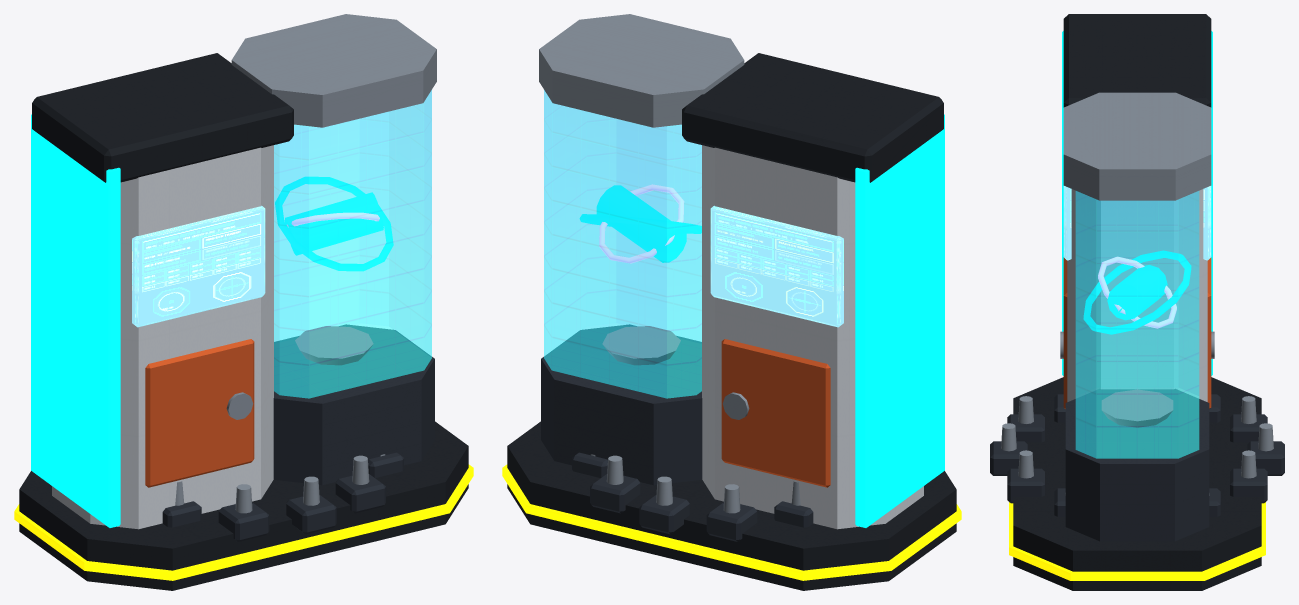
The model's file is prop_02_r1_02.glb.
3 views of the same model, side by side, from view 1: azimuth 30°, elevation 25°; view 2: azimuth 150°, elevation 25°; view 3: azimuth 270°, elevation 25° (orthographic). The views are drawn at different scales.
Parts seen in each view (by area): view 1: Prop02_C02_gunmetal, Prop02_C02_glass_cyan, Prop02_C02_led_cyan, Prop02_C02_aero_white, Prop02_C02_carbon_slate, Prop02_C02_steel_machined, Prop02_C02_accent_orange, Prop02_C02_marquee, Prop02_C02_led_amber, Prop02_C02_led_uv; view 2: Prop02_C02_gunmetal, Prop02_C02_glass_cyan, Prop02_C02_led_cyan, Prop02_C02_aero_white, Prop02_C02_carbon_slate, Prop02_C02_steel_machined, Prop02_C02_accent_orange, Prop02_C02_marquee, Prop02_C02_led_amber, Prop02_C02_led_uv; view 3: Prop02_C02_glass_cyan, Prop02_C02_gunmetal, Prop02_C02_carbon_slate, Prop02_C02_aero_white, Prop02_C02_steel_machined, Prop02_C02_led_cyan, Prop02_C02_led_amber, Prop02_C02_accent_orange, Prop02_C02_marquee, Prop02_C02_led_uv.
Part boxes in pixels (x1,y1,x2,y2): Prop02_C02_gunmetal: (19,53,468,590); Prop02_C02_glass_cyan: (274,90,431,398); Prop02_C02_led_cyan: (31,114,393,527); Prop02_C02_aero_white: (52,145,273,529); Prop02_C02_carbon_slate: (162,324,434,541); Prop02_C02_steel_machined: (175,14,436,513); Prop02_C02_accent_orange: (145,339,254,487); Prop02_C02_marquee: (132,205,265,327); Prop02_C02_led_amber: (14,464,473,580); Prop02_C02_led_uv: (287,212,379,227); Prop02_C02_gunmetal: (507,53,956,590); Prop02_C02_glass_cyan: (544,90,701,398); Prop02_C02_led_cyan: (579,114,944,527); Prop02_C02_aero_white: (702,145,923,529); Prop02_C02_carbon_slate: (541,324,813,541); Prop02_C02_steel_machined: (539,14,800,513); Prop02_C02_accent_orange: (721,339,830,487); Prop02_C02_marquee: (710,205,843,327); Prop02_C02_led_amber: (502,464,961,580); Prop02_C02_led_uv: (599,184,684,263); Prop02_C02_glass_cyan: (1075,191,1199,458); Prop02_C02_gunmetal: (1013,14,1261,590); Prop02_C02_carbon_slate: (990,389,1284,541); Prop02_C02_aero_white: (1067,189,1207,401); Prop02_C02_steel_machined: (1001,92,1273,495); Prop02_C02_led_cyan: (1062,31,1212,375); Prop02_C02_led_amber: (1009,502,1265,580); Prop02_C02_accent_orange: (1063,257,1211,408); Prop02_C02_marquee: (1063,186,1211,260); Prop02_C02_led_uv: (1098,256,1176,328).
Bounding box in the file's own units: 2.5 × 2.66 × 1.72.
10 materials, 10 textured.
